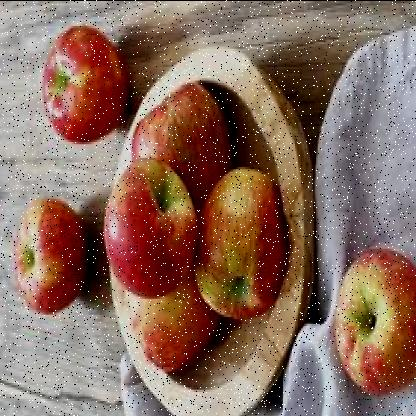apple: (190, 164, 290, 320), (328, 252, 414, 394), (130, 76, 230, 196), (104, 159, 196, 289), (47, 3, 127, 146), (142, 236, 220, 374), (14, 194, 90, 312)
